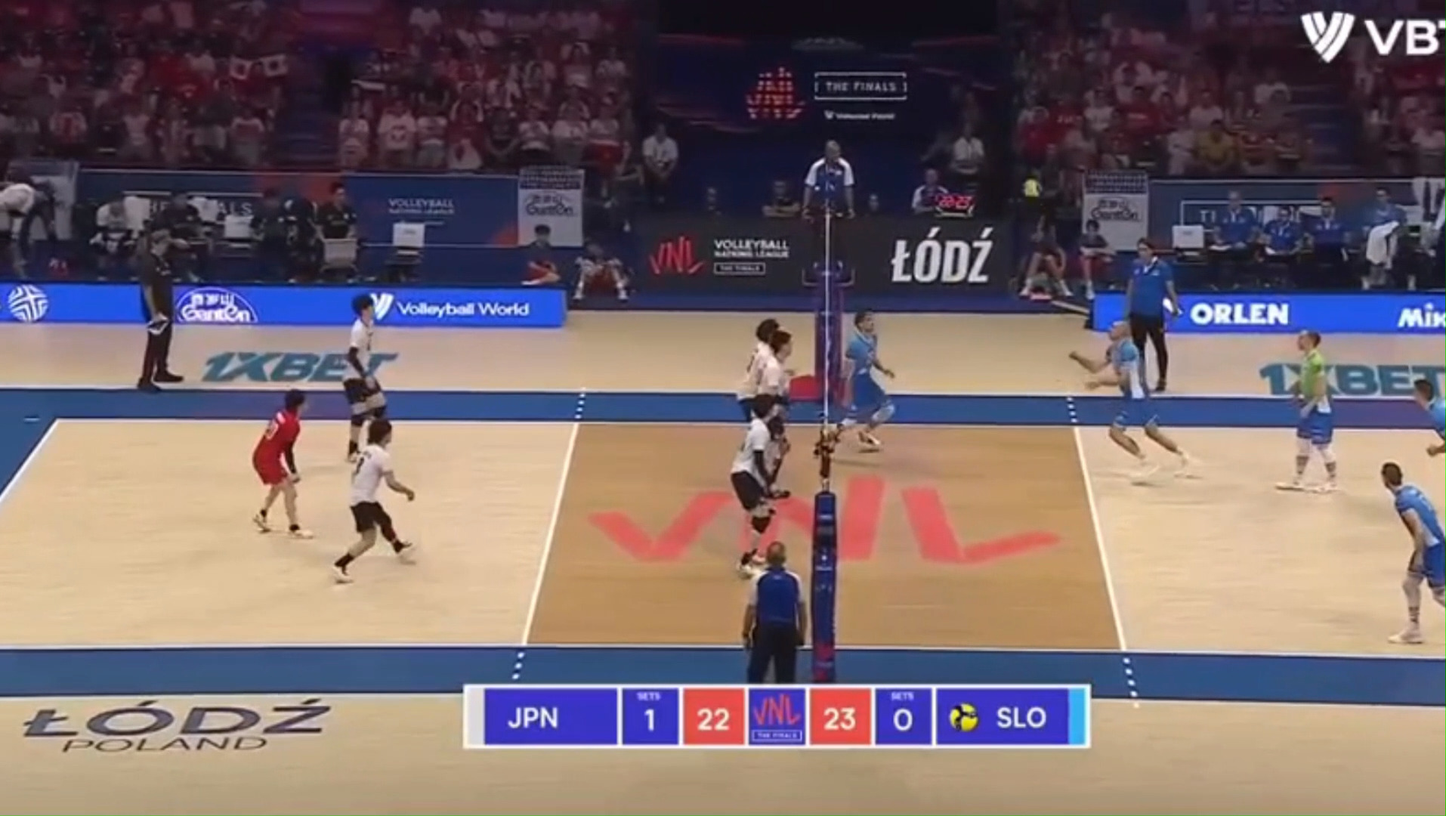ball: (1022, 177, 1041, 198)
player: (1071, 320, 1188, 481), (1380, 462, 1445, 643), (1277, 330, 1337, 491), (835, 310, 894, 451), (1413, 379, 1445, 456)
player 1: (333, 419, 415, 583), (729, 395, 777, 575), (252, 389, 310, 537), (341, 294, 387, 461), (736, 318, 780, 421), (757, 329, 791, 452)
referee: (742, 541, 808, 683), (1126, 240, 1179, 391), (137, 222, 184, 392), (801, 141, 854, 287)
